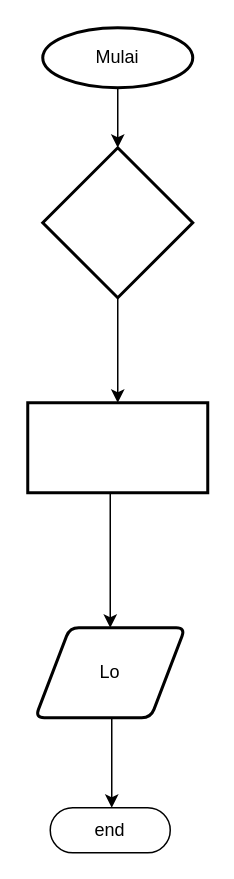
This 234x879 diagram has some shape labels left out. Each missing label, with the centre of its shape:
"Lo = phi x d" goes at (117,447).
"Lo phi d" goes at (117,222).
